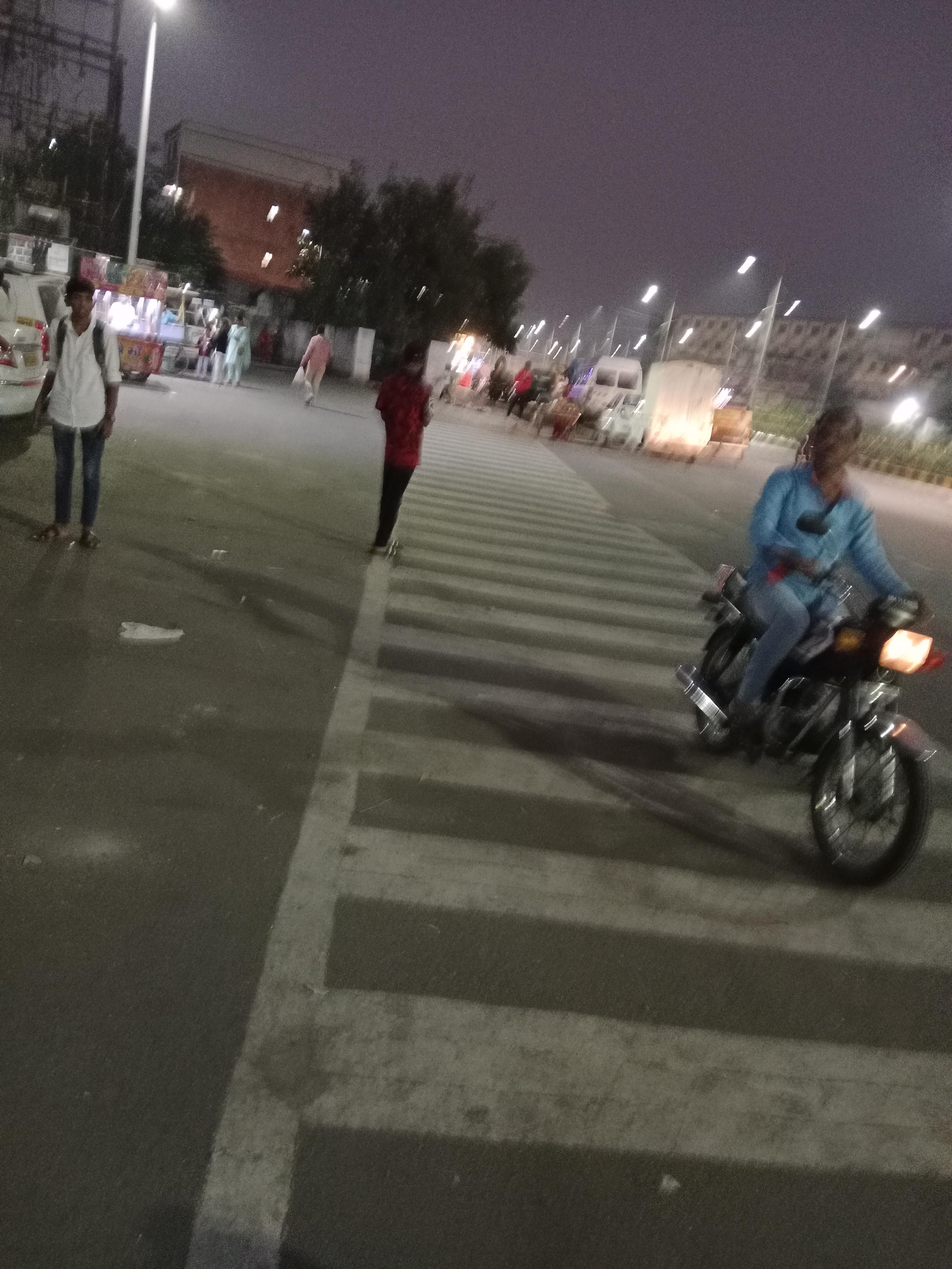crosswalk: (212, 428, 952, 1267)
